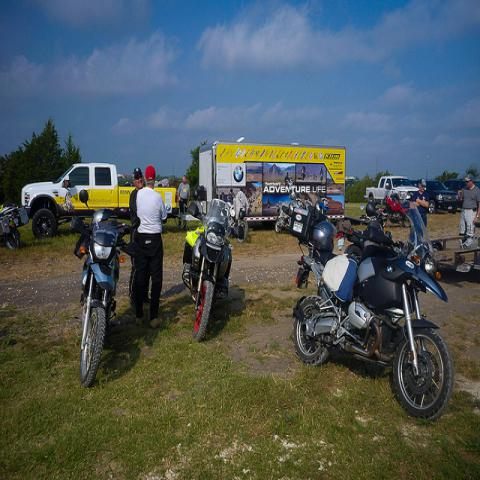car: (444, 179, 467, 193)
motorcycle: (292, 203, 454, 426), (76, 199, 136, 391), (182, 184, 236, 343), (336, 202, 395, 255), (274, 190, 329, 234), (0, 204, 30, 250), (378, 188, 411, 228)
truck: (198, 139, 346, 229), (20, 164, 180, 240), (415, 180, 458, 214), (364, 177, 419, 202)
